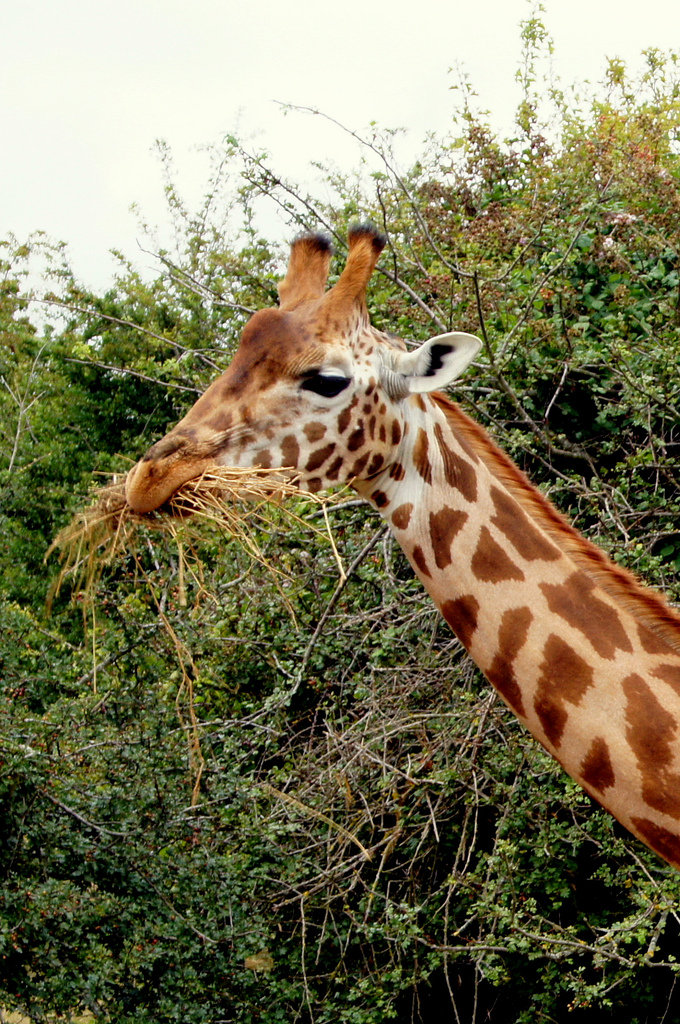giraffe: (134, 236, 667, 847)
